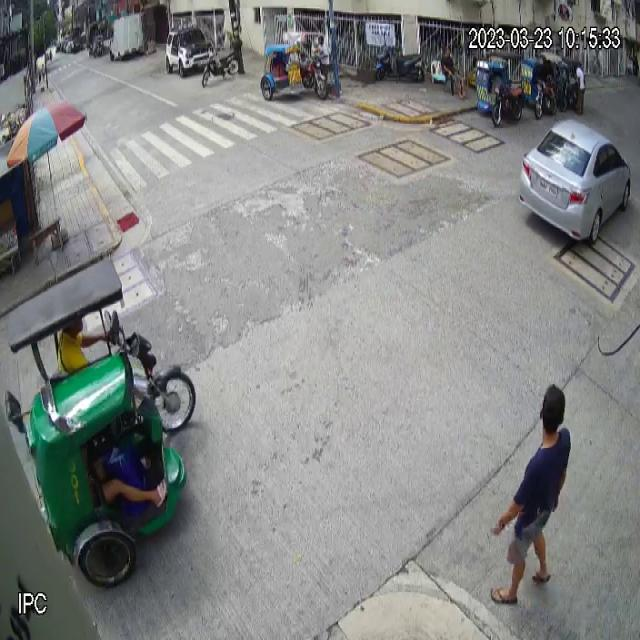Car: (518, 117, 632, 245)
Tricycle: (6, 255, 196, 588), (260, 32, 329, 102), (476, 51, 524, 128)
